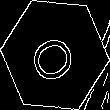O_NE: (25, 25, 85, 85)
